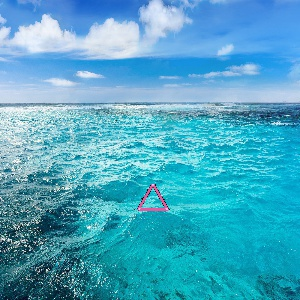triangle: (136, 182, 172, 213)
